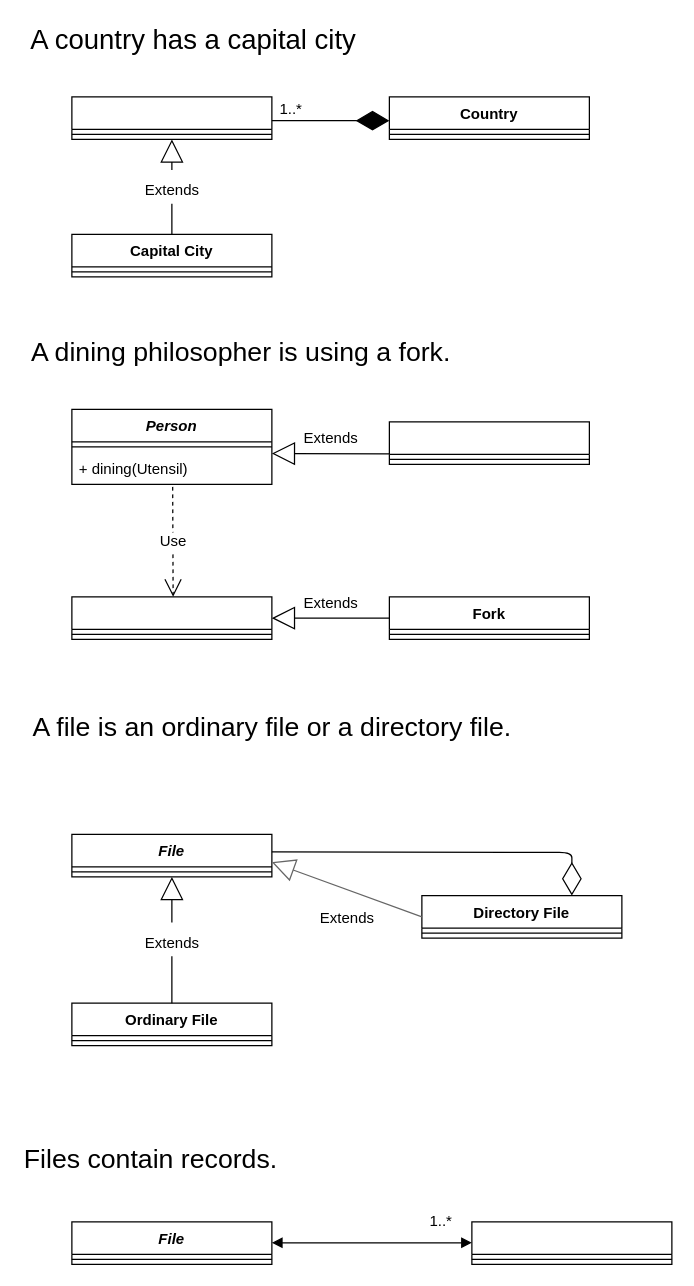
This 694x1286 diagram has some shape labels left out. Here are the shapes that lost their labels. From the top down, the centre of each, then its label:
(x=171, y=117): City
(x=488, y=442): Philosopher
(x=171, y=617): Utensil
(x=571, y=1242): Records
